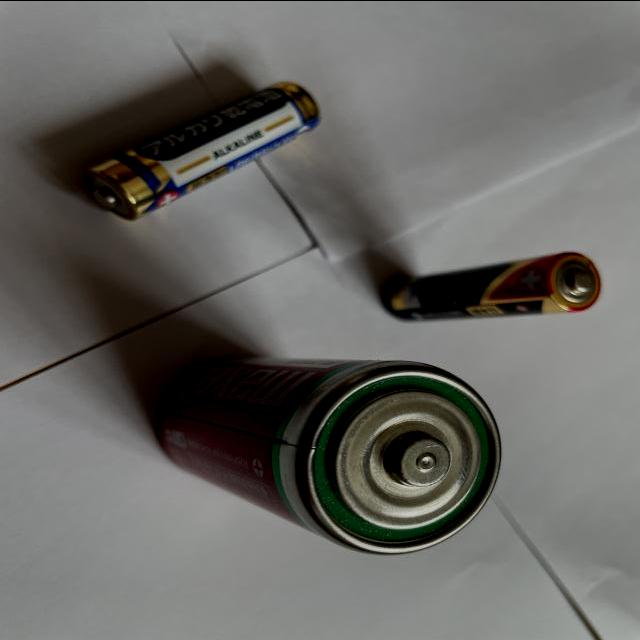AA: (84, 81, 315, 219)
AAA: (384, 250, 603, 322)
